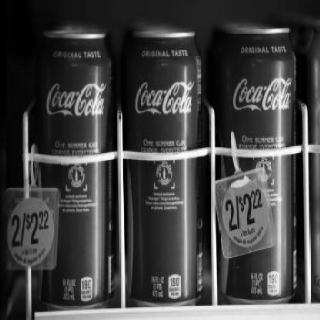alumunium_can: (204, 23, 300, 304), (118, 27, 210, 309), (32, 28, 118, 312)
